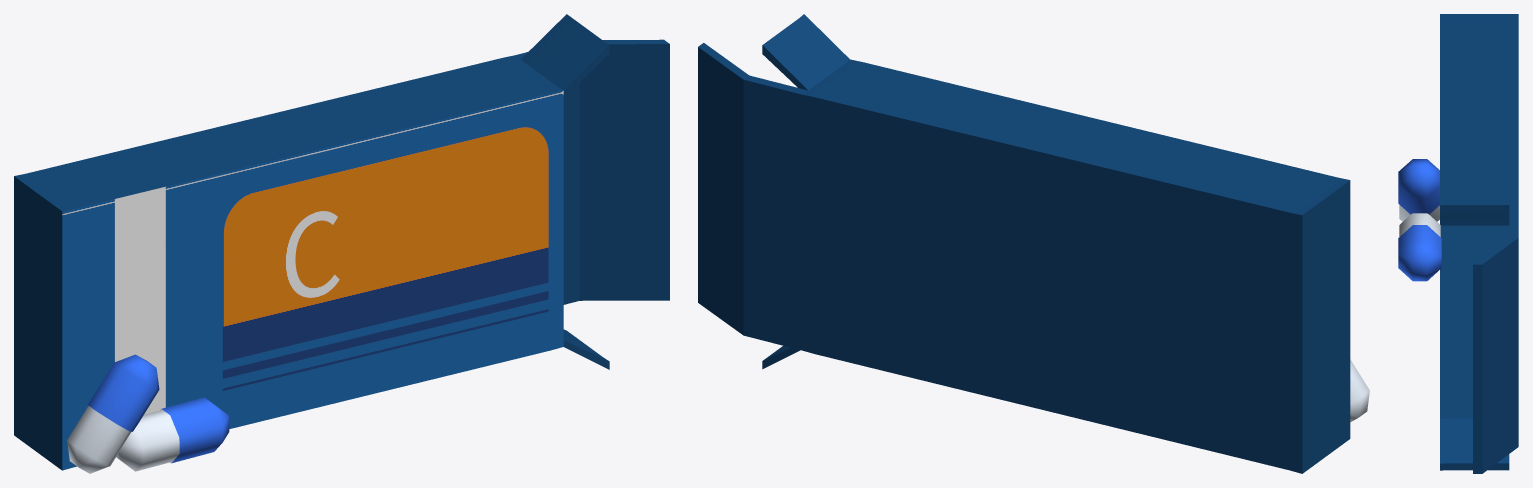
File: cloza_nuevasTexturas.fbx
The picture shows the model from 3 angles, left to right: view 1: azimuth 30°, elevation 25°; view 2: azimuth 150°, elevation 25°; view 3: azimuth 270°, elevation 25°; orthographic projection. The views are drawn at different scales.
Visible parts, largest first — view 1: pCube2, pasted__pCube2, pasted__pCube2.001; view 2: pCube2, pasted__pCube2; view 3: pCube2, pasted__pCube2.001, pasted__pCube2.
Part boxes in pixels (x1,y1,x2,y2): pCube2: (14, 14, 669, 470); pasted__pCube2: (67, 354, 159, 473); pasted__pCube2.001: (116, 397, 229, 471); pCube2: (698, 14, 1350, 473); pasted__pCube2: (1350, 359, 1369, 422); pCube2: (1440, 14, 1518, 473); pasted__pCube2.001: (1398, 213, 1441, 281); pasted__pCube2: (1398, 159, 1439, 221).
Size of the model in its own units: 6.49 by 3.19 by 1.31.
3 materials, 2 textured.
